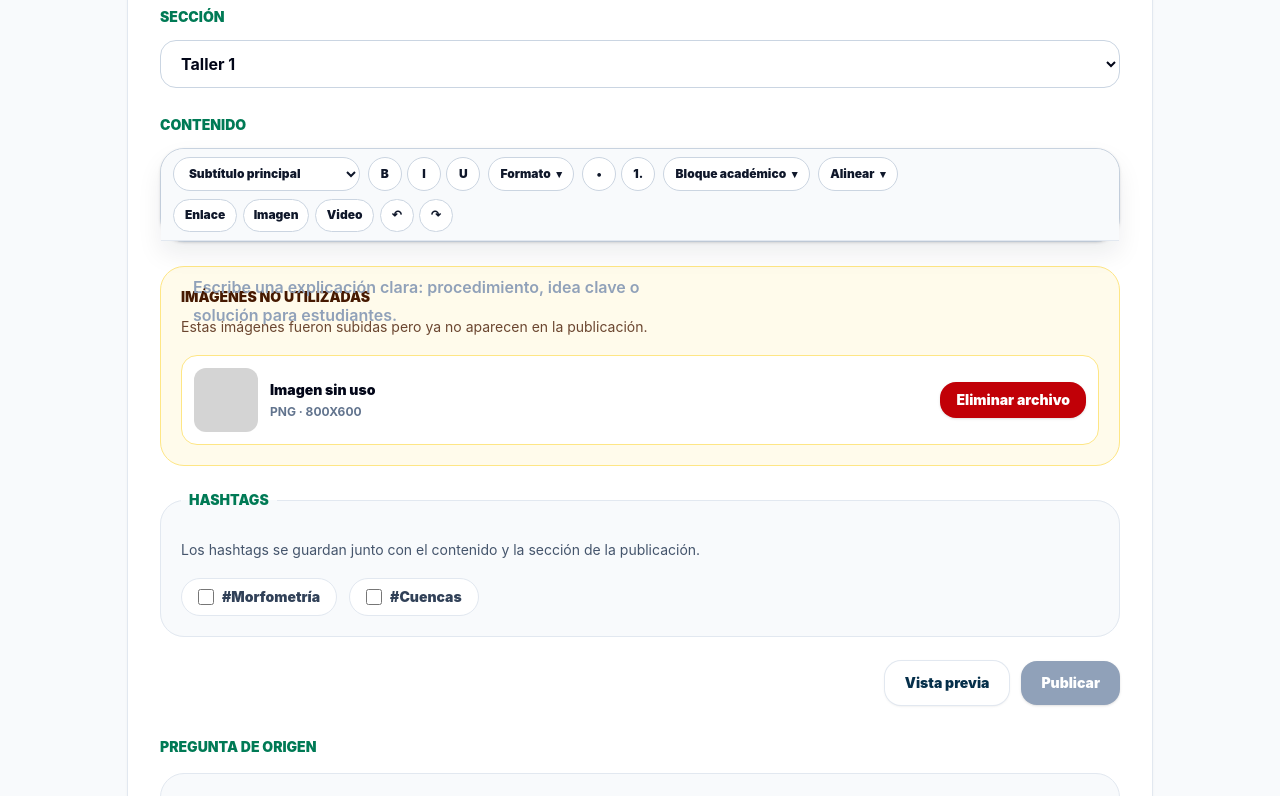
Test case: AdminPostEditorView › explains referenced-image conflicts without modifying the content document
The image size is (1280, 796).
(page scrolled)
What coordinates should you click on to do the following:
click the button "Eliminar archivo"
I would click on:
 (1013, 400)
Its box is [940, 382, 1086, 418].
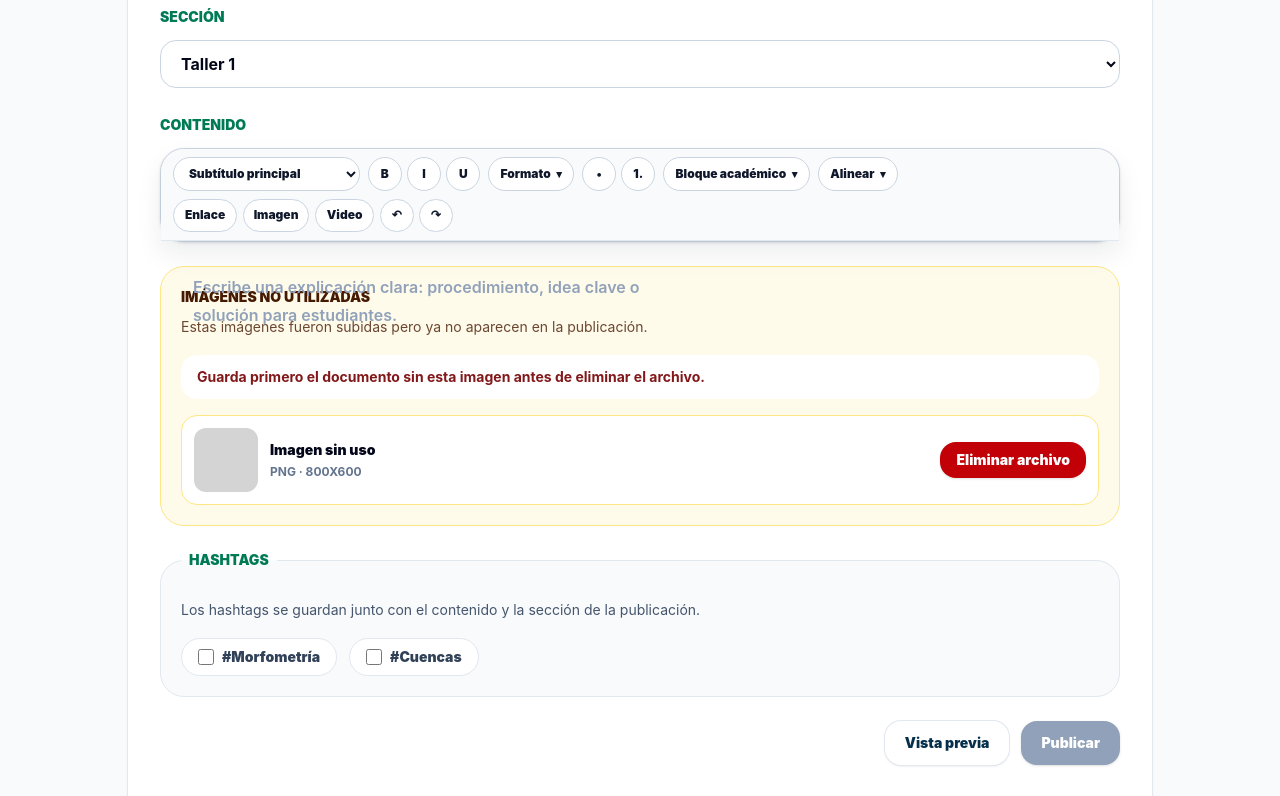
expect the text "Guarda primero el documento sin esta imagen" is shown: met, box [197, 368, 705, 385]
